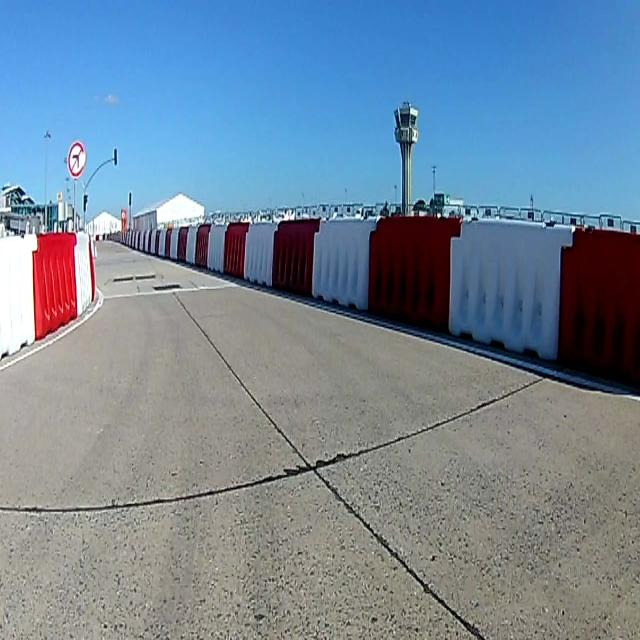soladonulmez: (68, 139, 86, 180)
